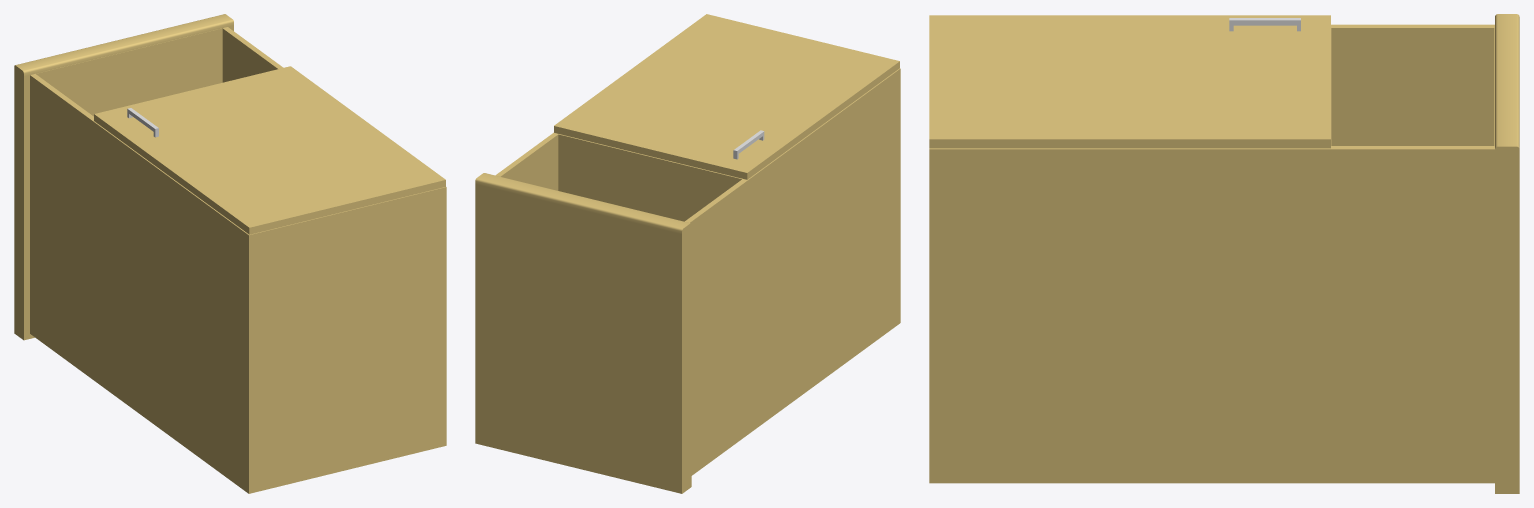
3 renders of one model, left to right at view 1: azimuth 30°, elevation 25°; view 2: azimuth 150°, elevation 25°; view 3: azimuth 270°, elevation 25°, orthographic. The views are drawn at different scales.
Visible parts, largest first — view 1: Cube; view 2: Cube; view 3: Cube.
Part boxes in pixels (x1,y1,x2,y2): Cube: [14, 14, 446, 493]; Cube: [475, 14, 900, 493]; Cube: [929, 14, 1519, 493].
Bounding box in the file's own units: 42.52 × 54.06 × 80.
